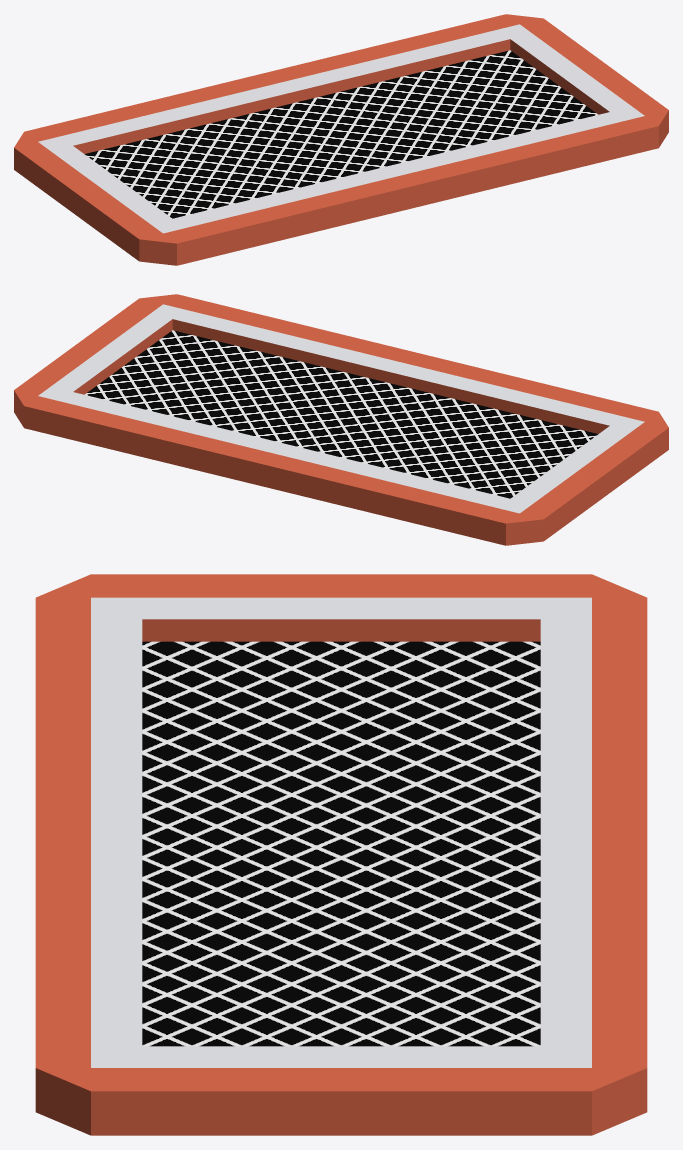
Rendered from metalTileDouble.glb.
3 views of the same model, one above another, from view 1: azimuth 30°, elevation 25°; view 2: azimuth 150°, elevation 25°; view 3: azimuth 270°, elevation 25° (orthographic). The views are drawn at different scales.
Parts seen in each view (by area): view 1: metalTileDouble; view 2: metalTileDouble; view 3: metalTileDouble.
Part boxes in pixels (bbox=[...]): metalTileDouble: bbox=[14, 14, 668, 265]; metalTileDouble: bbox=[14, 294, 668, 545]; metalTileDouble: bbox=[35, 574, 647, 1135].
Bounding box in the file's own units: 20 × 0.8 × 10.
3 materials, 1 textured.
